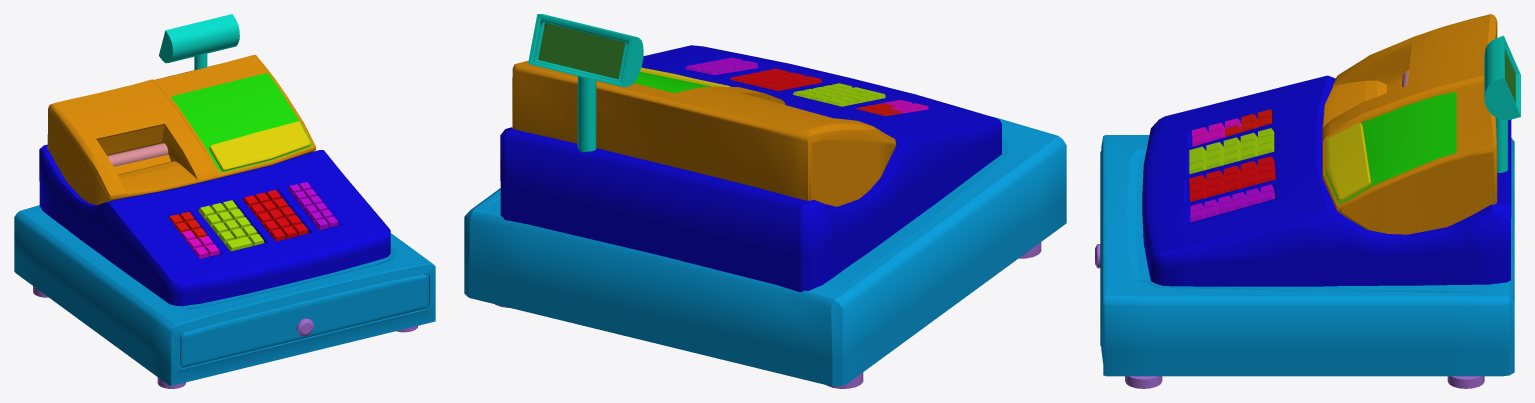
File: cashregister.fbx
The picture shows the model from 3 angles, left to right: view 1: azimuth 30°, elevation 25°; view 2: azimuth 150°, elevation 25°; view 3: azimuth 270°, elevation 25°; orthographic projection. The views are drawn at different scales.
Parts seen in each view (by area): view 1: Cube.001; view 2: Cube.001; view 3: Cube.001.
Part boxes in pixels (x1,y1,x2,y2): Cube.001: (14,14,435,388); Cube.001: (464,14,1066,388); Cube.001: (1095,14,1520,388).
Bounding box in the file's own units: 221 × 173 × 236.
